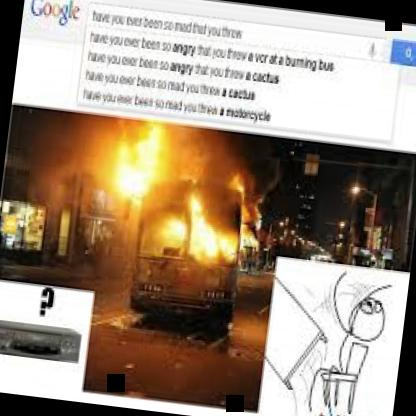fire: (100, 122, 272, 348)
